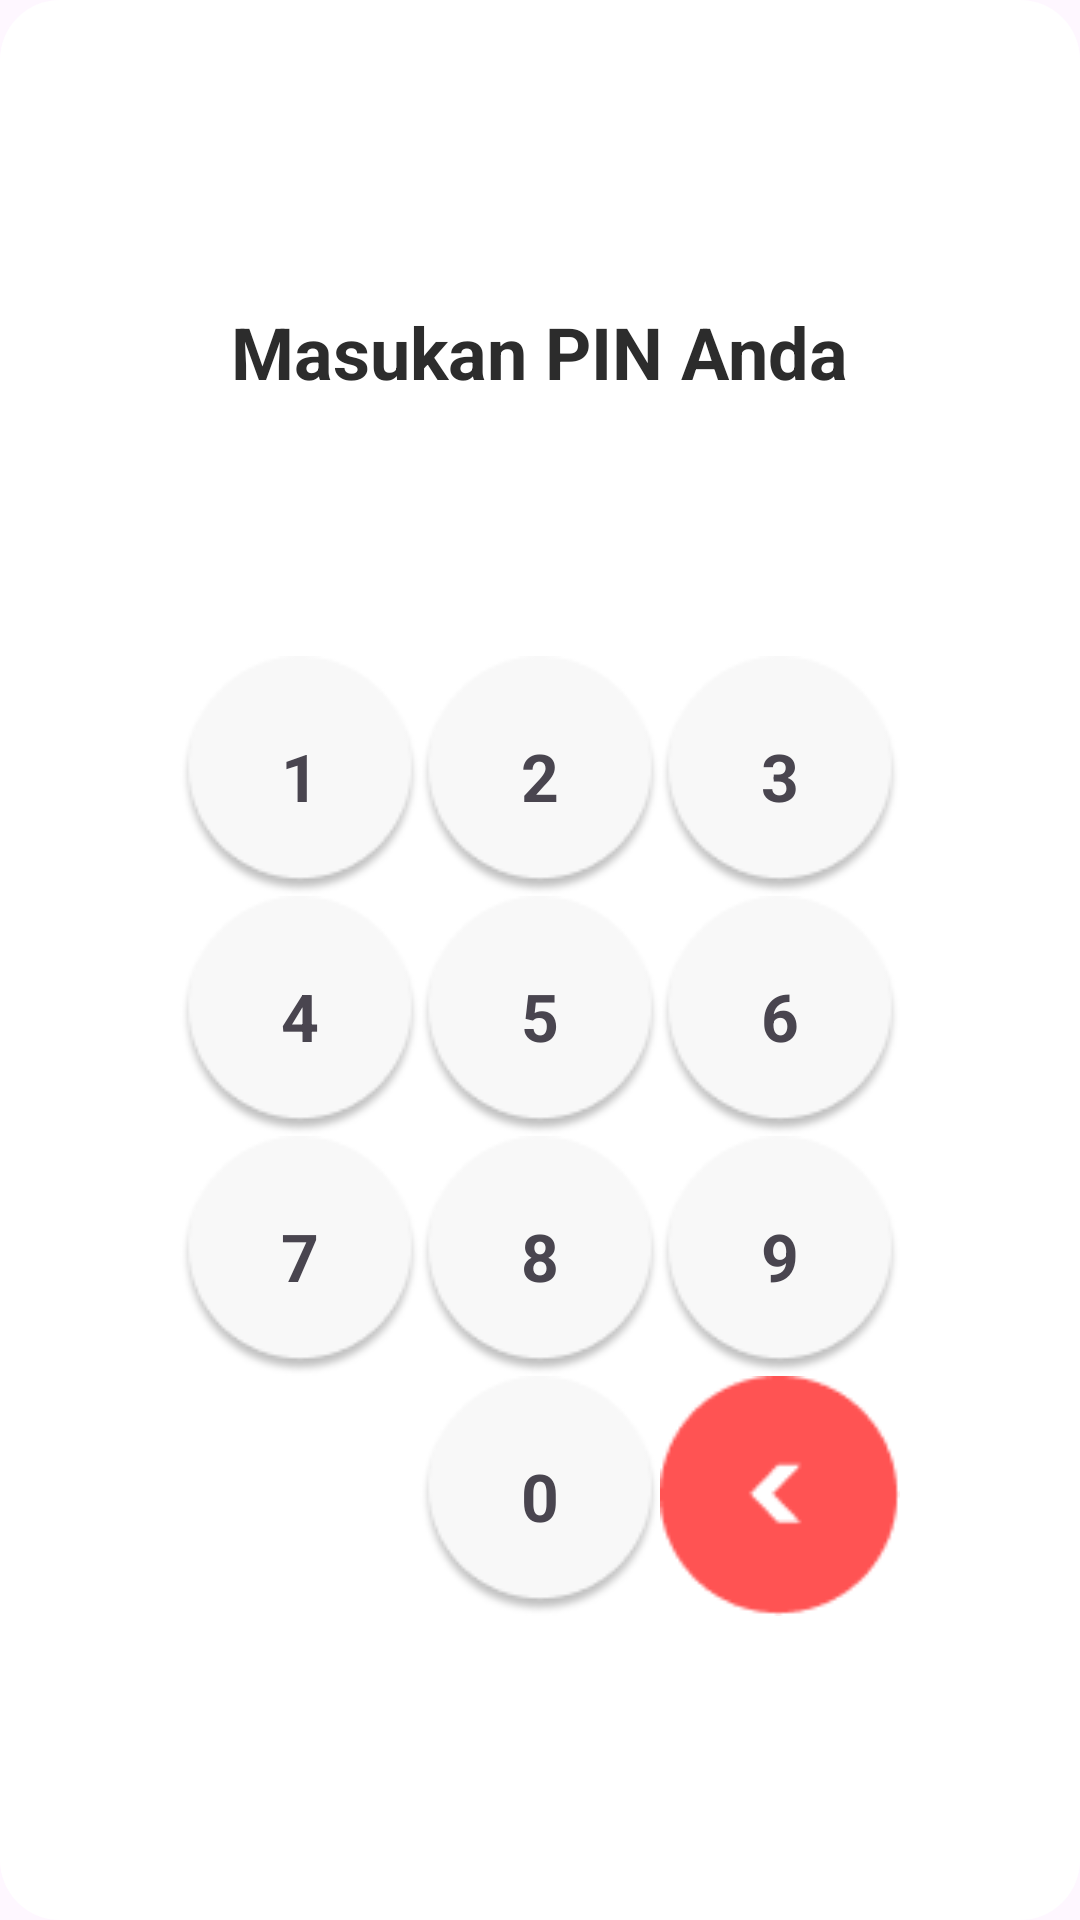

Screen size 1080 x 1920. Icon name, then its box in pixels as (x1, y1, x2, y2):
delete pin: (660, 1376, 898, 1614)
